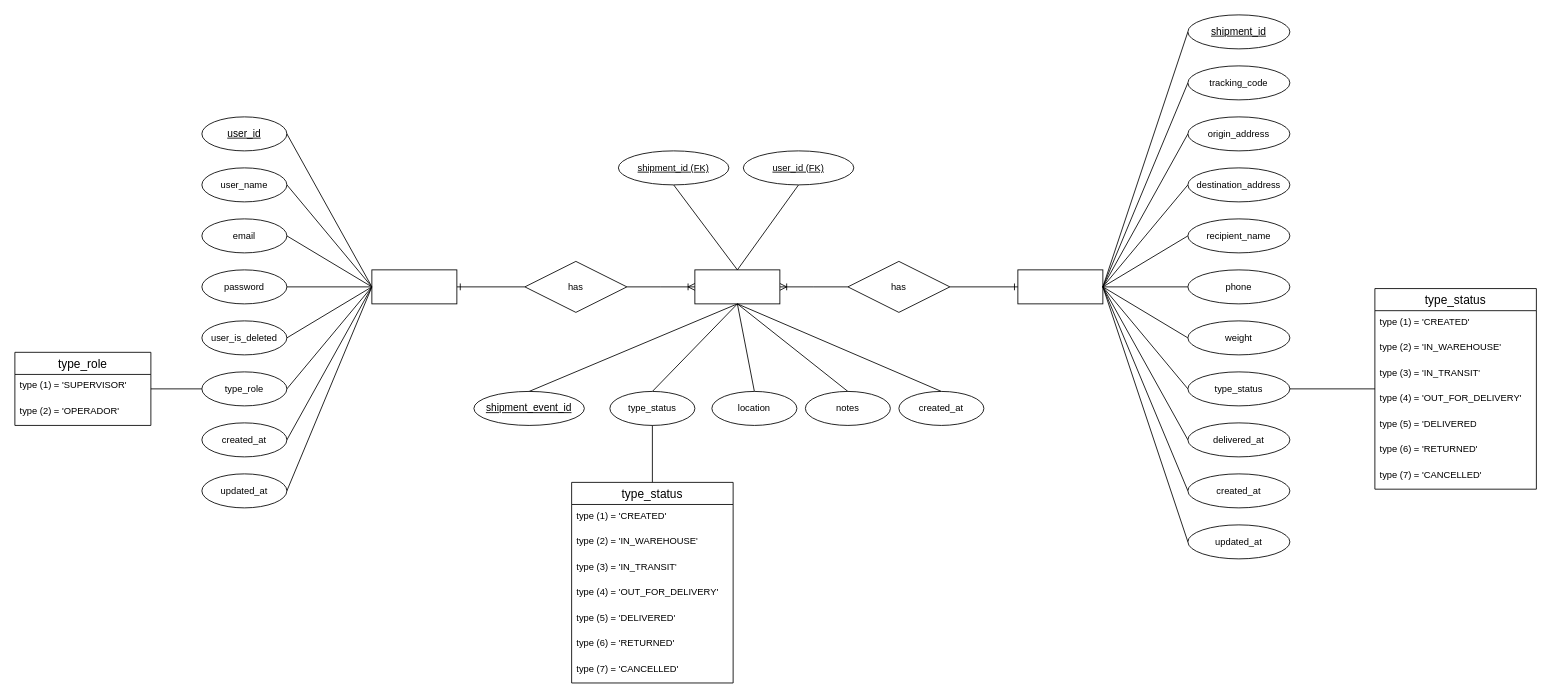
This 1551x700 diagram has some shape labels left out. The shapes that lost their labels are listed below. From the top down, each one's box as (x1, y1, x2, y2) in pixels, then its label:
(371, 269, 457, 304): user
(694, 269, 780, 304): shipment_event
(1017, 269, 1103, 304): shipment
